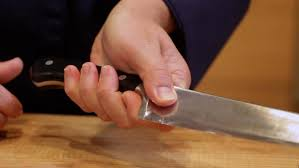knife: (24, 50, 299, 154)
